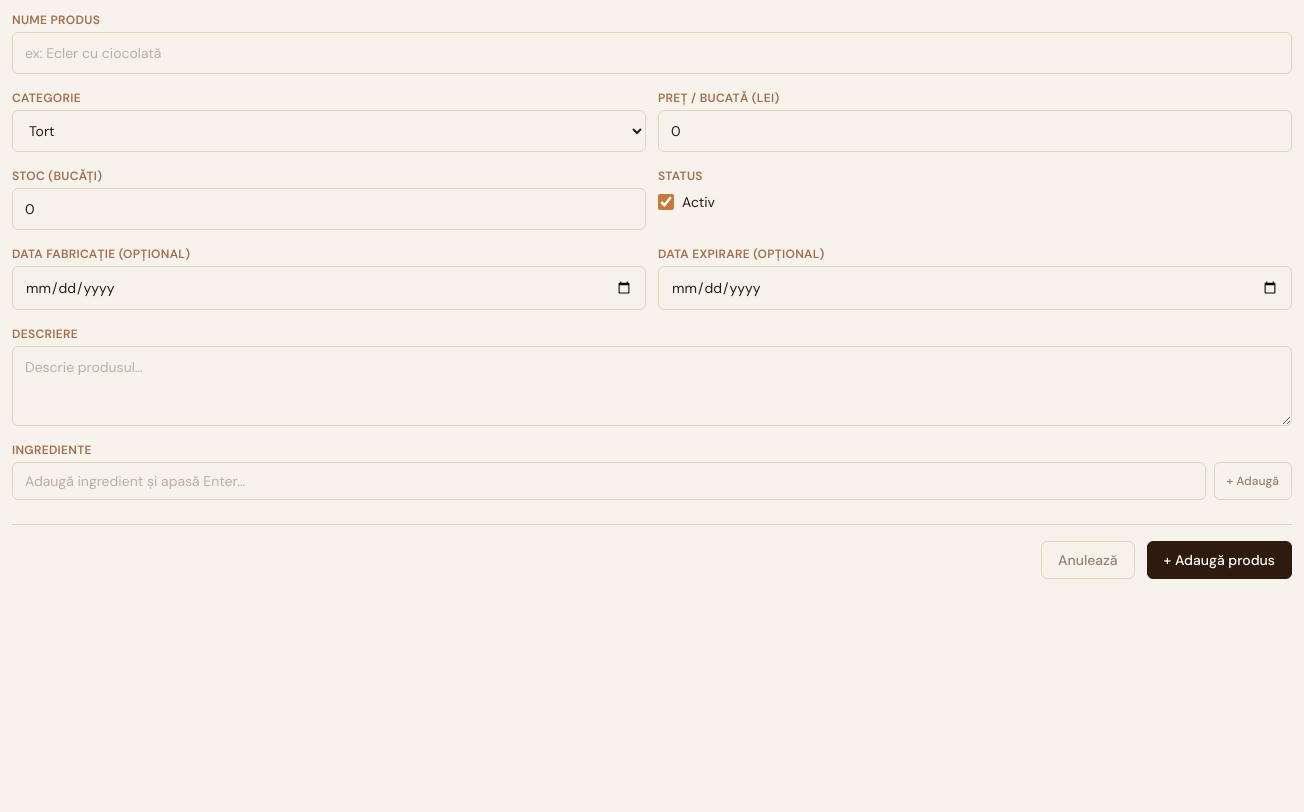
Test: ProductForm — ingredients › does not add duplicate ingredients
The image size is (1304, 812).
Step 1. Type "Zahăr" into the field with test id "ingredient-input" → [609, 481], box x1=12 y1=462 x2=1206 y2=500
Then press Enter
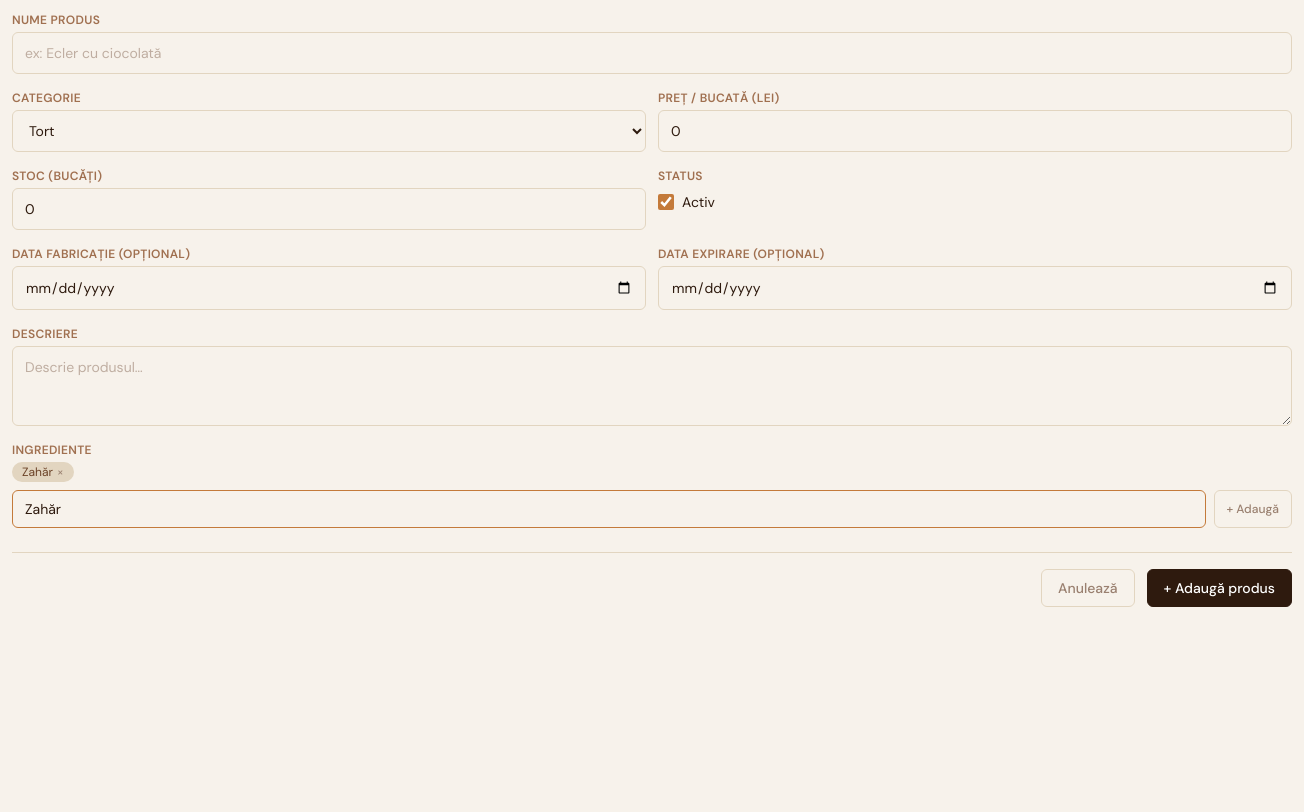
Result: the text "Zahăr" is shown once at x1=12 y1=462 x2=74 y2=482
